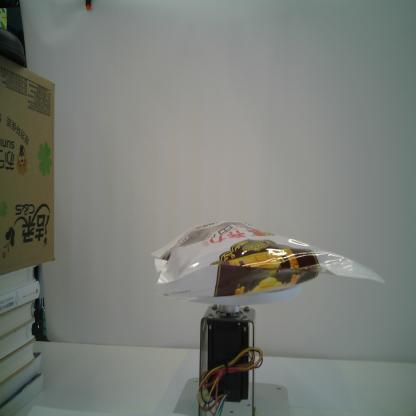Dried Food: (149, 216, 386, 302)
